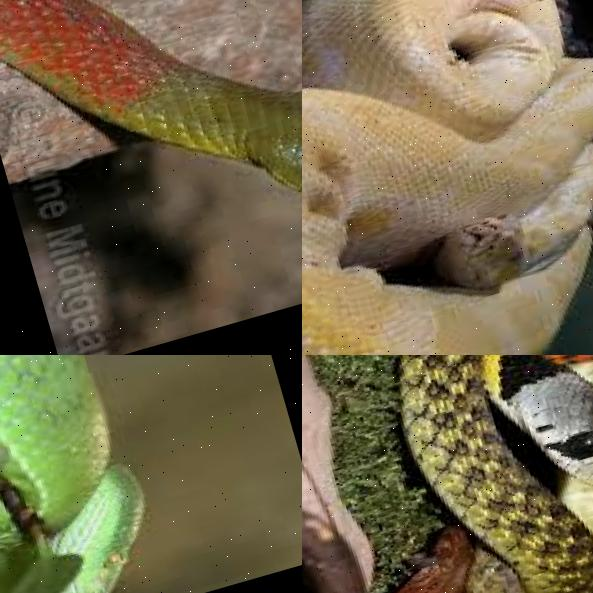snake: (0, 0, 302, 355), (302, 0, 593, 355), (312, 355, 593, 593), (0, 355, 173, 593)
